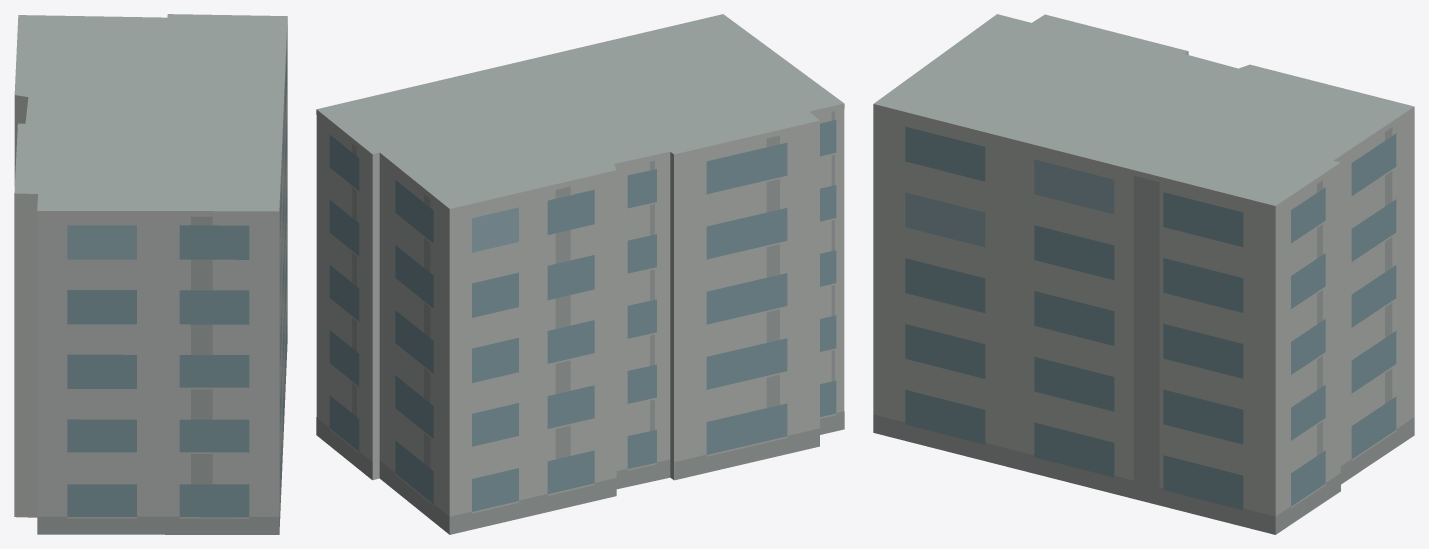
The model's file is survey-upis-32566719.glb.
The picture shows the model from 3 angles, left to right: view 1: azimuth 30°, elevation 25°; view 2: azimuth 150°, elevation 25°; view 3: azimuth 270°, elevation 25°; orthographic projection.
Parts seen in each view (by area): view 1: survey-upis-32566719.tmp; view 2: survey-upis-32566719.tmp; view 3: survey-upis-32566719.tmp.
Part boxes in pixels (x1=…): survey-upis-32566719.tmp: x1=14, y1=14, x2=287, y2=534; survey-upis-32566719.tmp: x1=316, y1=14, x2=844, y2=534; survey-upis-32566719.tmp: x1=873, y1=14, x2=1414, y2=534.
Bounding box in the file's own units: 17.92 × 14.3 × 21.34.
